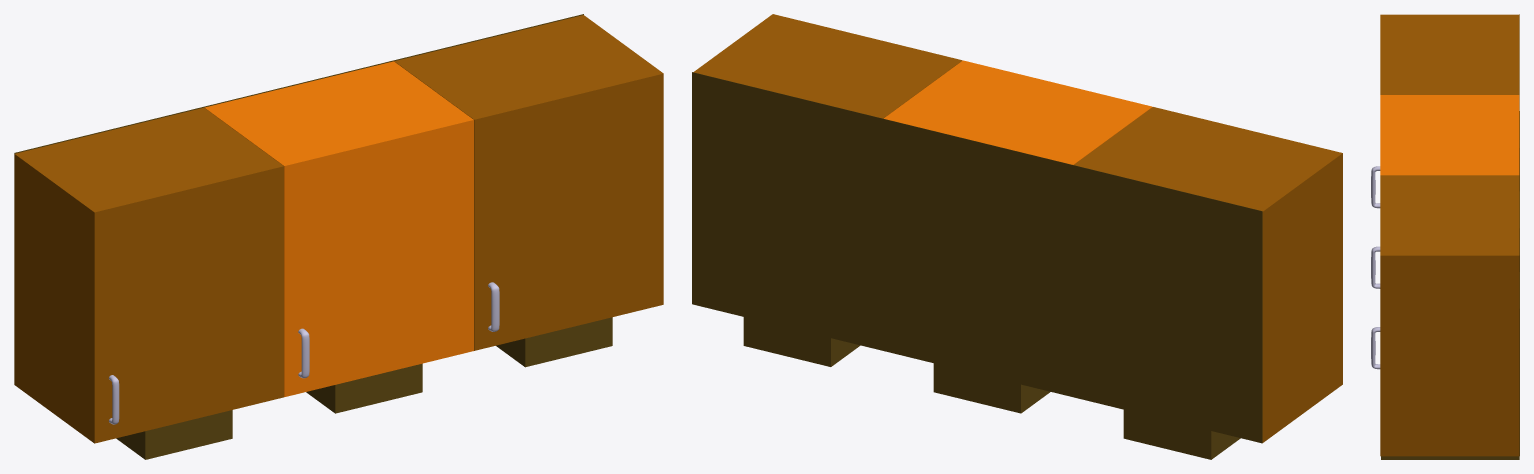
The model's file is lemari kecil dapur atas.fbx.
The picture shows the model from 3 angles, left to right: view 1: azimuth 30°, elevation 25°; view 2: azimuth 150°, elevation 25°; view 3: azimuth 270°, elevation 25°; orthographic projection. The views are drawn at different scales.
Visible parts, largest first — view 1: Cabinet1_Door, Cabinet3_Door, Cabinet2_Door, Cabinet1, Cabinet3, Cabinet2; view 2: Cabinet1, Cabinet2, Cabinet3, Cabinet1_Door, Cabinet3_Door, Cabinet2_Door; view 3: Cabinet3_Door, Cabinet1_Door, Cabinet2_Door, Cabinet3, Handle.001, Handle.002, Handle.
Boxes of the visible parts, bbox=[...] form: Cabinet1_Door: bbox=[14, 107, 283, 443]; Cabinet3_Door: bbox=[394, 15, 663, 350]; Cabinet2_Door: bbox=[204, 61, 473, 397]; Cabinet1: bbox=[14, 106, 232, 459]; Cabinet3: bbox=[394, 14, 612, 367]; Cabinet2: bbox=[204, 60, 422, 413]; Cabinet1: bbox=[1072, 165, 1262, 459]; Cabinet2: bbox=[882, 118, 1072, 413]; Cabinet3: bbox=[692, 72, 882, 366]; Cabinet1_Door: bbox=[1074, 107, 1342, 442]; Cabinet3_Door: bbox=[693, 14, 962, 118]; Cabinet2_Door: bbox=[884, 60, 1152, 164]; Cabinet3_Door: bbox=[1380, 175, 1519, 456]; Cabinet1_Door: bbox=[1380, 14, 1519, 94]; Cabinet2_Door: bbox=[1380, 95, 1519, 175]; Cabinet3: bbox=[1381, 175, 1519, 459]; Handle.001: bbox=[1371, 246, 1380, 288]; Handle.002: bbox=[1371, 327, 1380, 369]; Handle: bbox=[1371, 166, 1380, 208].
Size of the model in its own units: 180 by 78.8 by 46.96.
